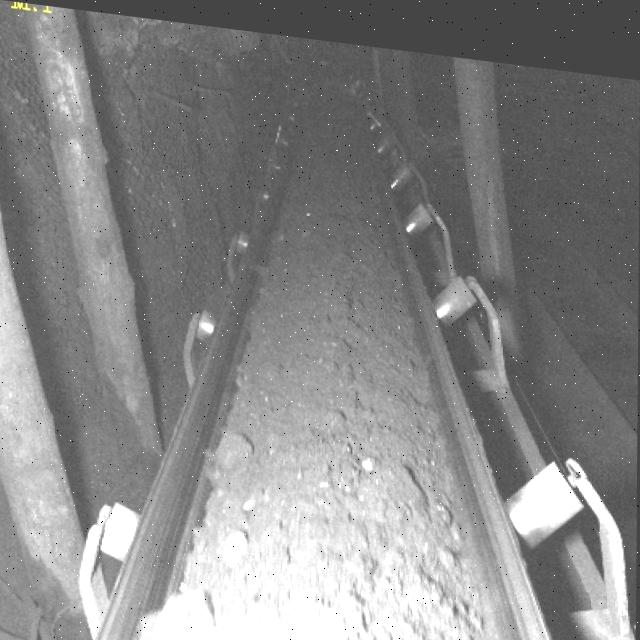large_sized_coal: (157, 580, 220, 640)
